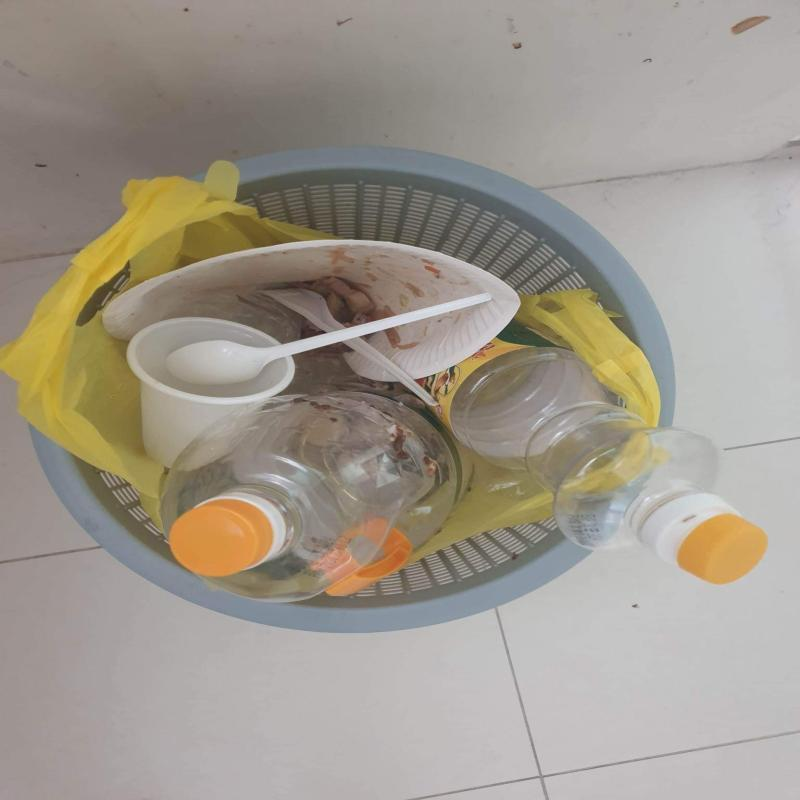cardboard: (101, 240, 522, 407)
left-over food: (292, 277, 397, 328)
plastic bottle: (415, 338, 769, 586), (159, 380, 474, 604)
plastic container: (127, 317, 295, 470)
